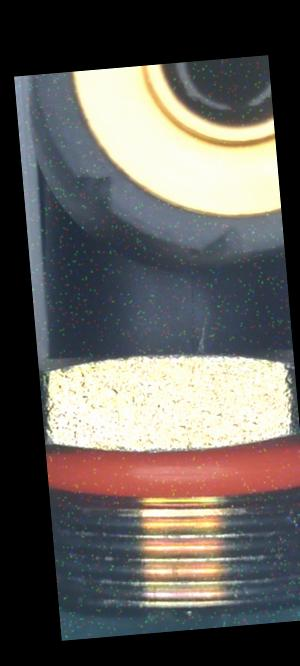bump: (68, 166, 121, 216), (192, 223, 254, 260)
joint line: (180, 272, 205, 315)
white mark: (196, 320, 214, 352)
